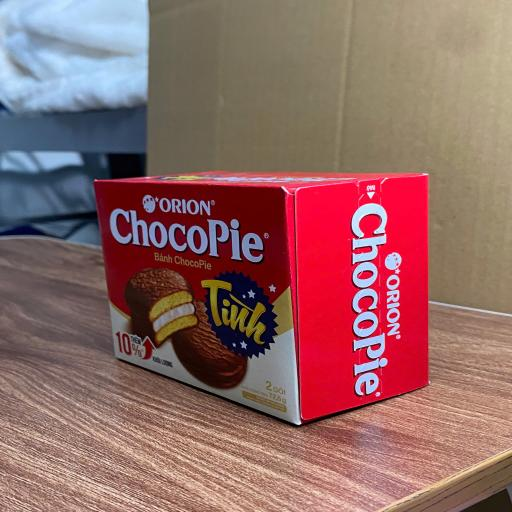chocopie: (93, 170, 428, 426)
